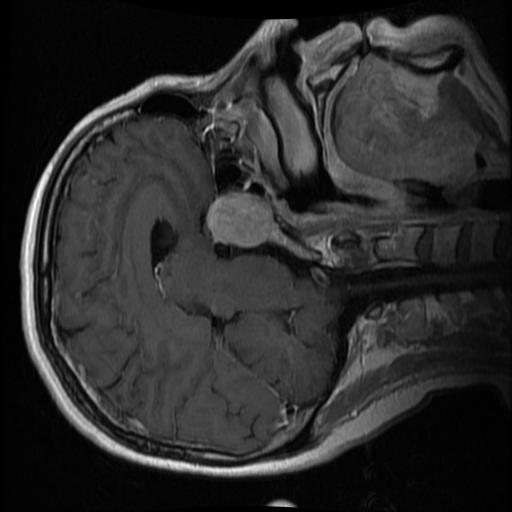pituitary tumour: (207, 192, 274, 247)
